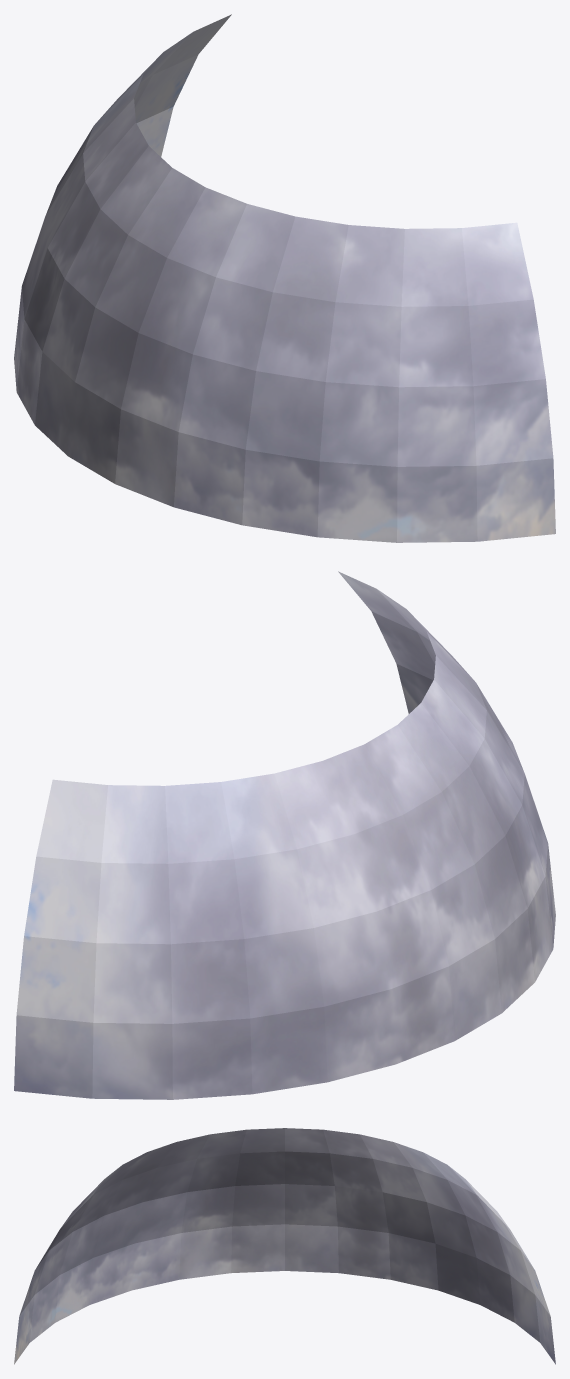
The model's file is 201019_skybox.fbx.
The picture shows the model from 3 angles, top to bottom: view 1: azimuth 30°, elevation 25°; view 2: azimuth 150°, elevation 25°; view 3: azimuth 270°, elevation 25°; orthographic projection. The views are drawn at different scales.
Visible parts, largest first — view 1: skybox; view 2: skybox; view 3: skybox.
Boxes of the visible parts, x1,y1,x2,y2 form: skybox: [14, 14, 555, 542]; skybox: [14, 571, 555, 1099]; skybox: [14, 1128, 555, 1364].
Size of the model in its own units: 863 by 708 by 1964.
